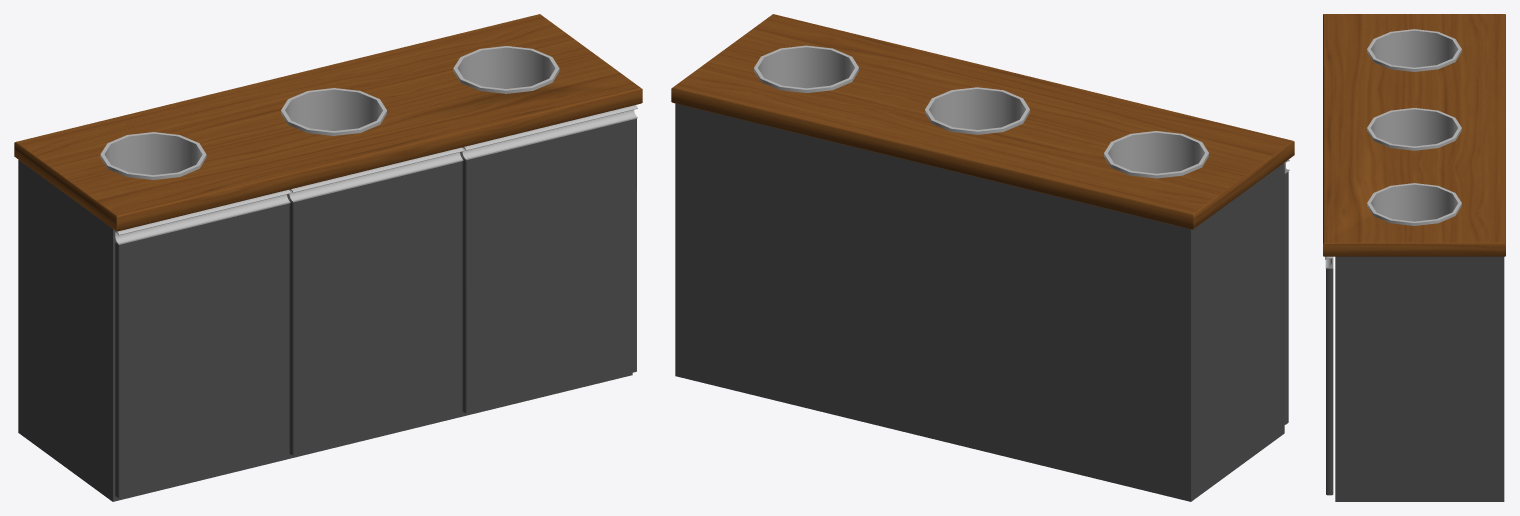
File: LC_3132_GarbageCanD_LOD2.FBX
The picture shows the model from 3 angles, left to right: view 1: azimuth 30°, elevation 25°; view 2: azimuth 150°, elevation 25°; view 3: azimuth 270°, elevation 25°; orthographic projection. The views are drawn at different scales.
Parts seen in each view (by area): view 1: LC_3132_GarbageCanD_LOD2; view 2: LC_3132_GarbageCanD_LOD2; view 3: LC_3132_GarbageCanD_LOD2.
Boxes of the visible parts, left/top/right/bottom form: LC_3132_GarbageCanD_LOD2: left=14, top=14, right=642, bottom=501; LC_3132_GarbageCanD_LOD2: left=671, top=14, right=1294, bottom=501; LC_3132_GarbageCanD_LOD2: left=1323, top=14, right=1505, bottom=501.
Size of the model in its own units: 175 by 93.31 by 58.8.
Materials: 1 (1 with a texture image).
